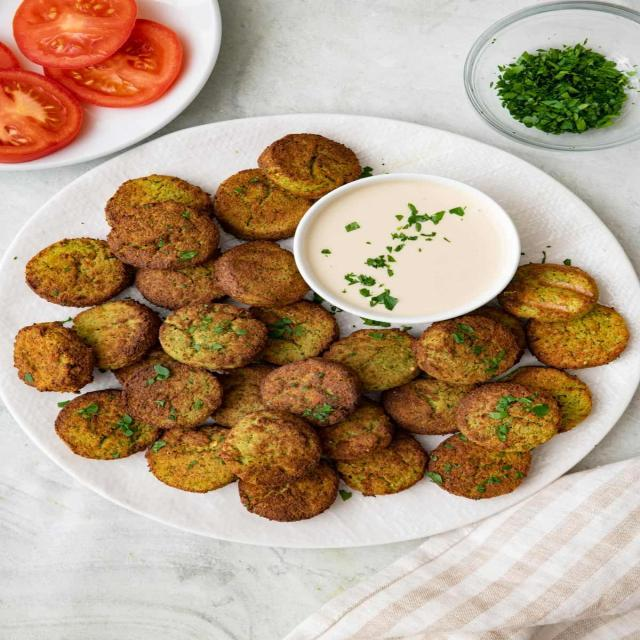flafel: (108, 199, 217, 270), (411, 315, 519, 385), (123, 359, 224, 427), (29, 235, 125, 304), (10, 320, 101, 392), (219, 241, 309, 313), (265, 357, 363, 423), (260, 133, 361, 195)
